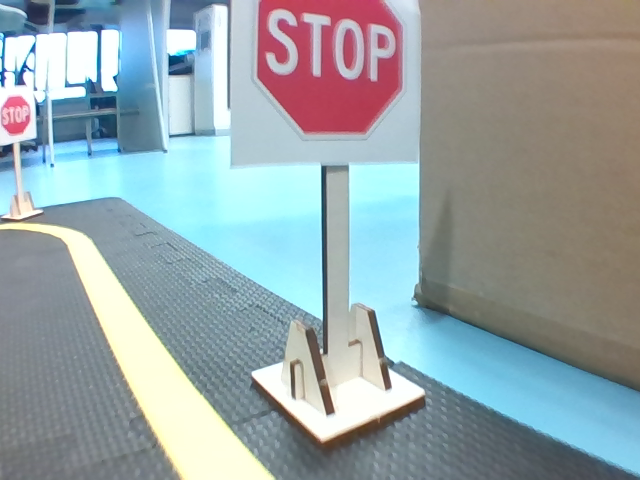stop: (232, 1, 416, 162), (1, 88, 36, 138)
